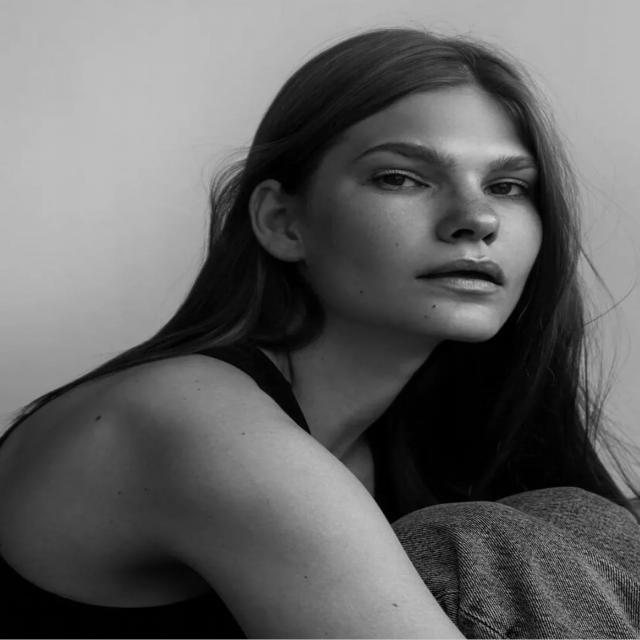earlobe: (280, 235, 304, 262)
eye: (369, 169, 432, 190), (482, 179, 531, 199)
nose: (444, 228, 513, 259)
wholeear: (250, 180, 304, 262)
